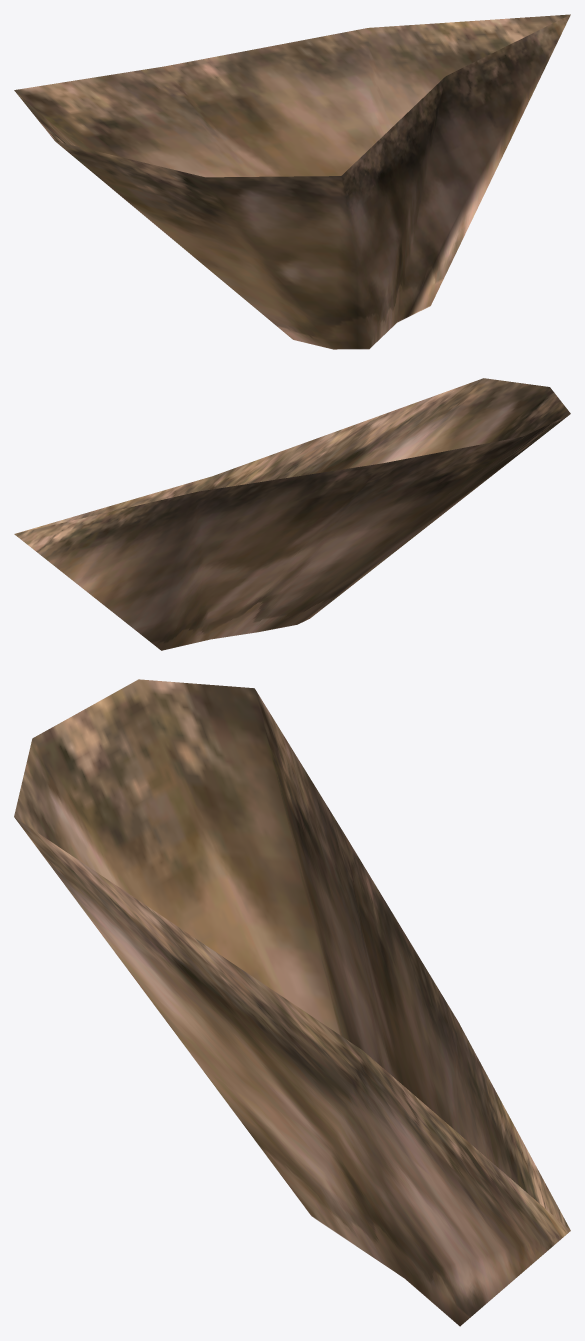
File: OVERHILL_A_01_LINE51.fbx
The picture shows the model from 3 angles, top to bottom: view 1: azimuth 30°, elevation 25°; view 2: azimuth 150°, elevation 25°; view 3: azimuth 270°, elevation 25°; orthographic projection. The views are drawn at different scales.
Visible parts, largest first — view 1: OVERHILL_A_01_LINE51; view 2: OVERHILL_A_01_LINE51; view 3: OVERHILL_A_01_LINE51.
Boxes of the visible parts, x1,y1,x2,y2 form: OVERHILL_A_01_LINE51: (14,14,570,349); OVERHILL_A_01_LINE51: (14,378,570,650); OVERHILL_A_01_LINE51: (14,679,570,1326).
Size of the model in its own units: 11328 by 6156 by 7812.
1 material, 1 textured.
